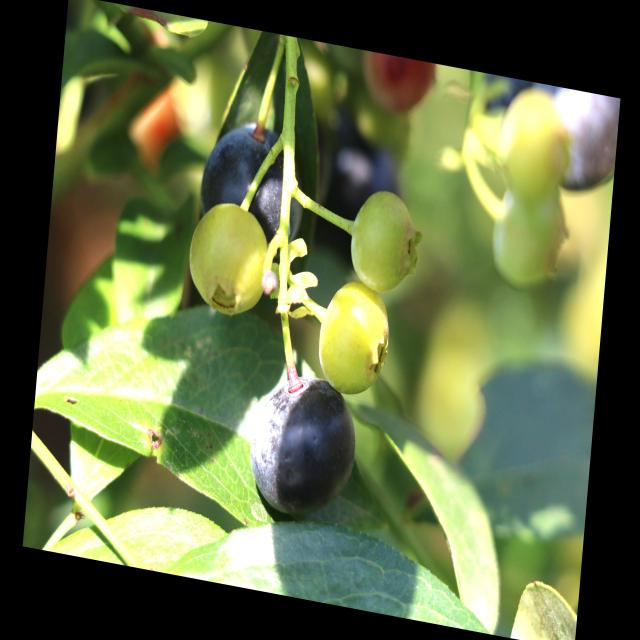blueberry: (243, 361, 367, 531), (194, 109, 311, 257)
blueberry-unripe: (183, 195, 273, 318), (494, 84, 575, 204), (488, 178, 572, 290), (316, 277, 390, 395), (346, 188, 422, 292)
